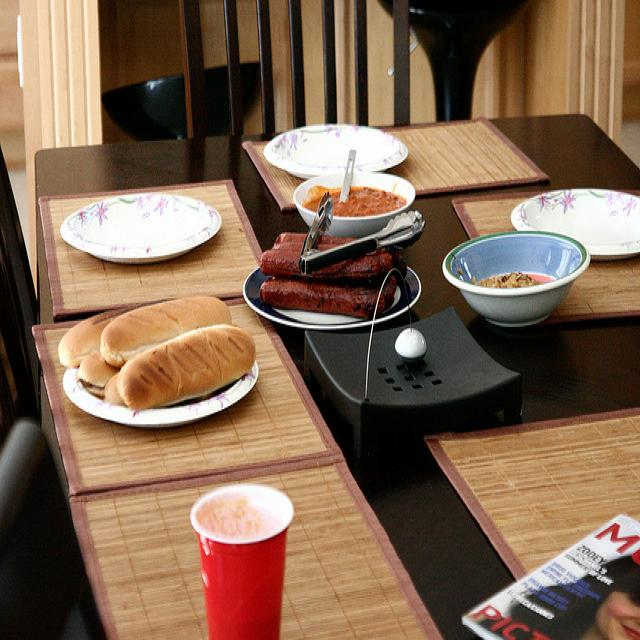chair: (178, 0, 412, 137), (0, 423, 83, 640), (1, 145, 39, 421)
dining table: (35, 112, 640, 633)
